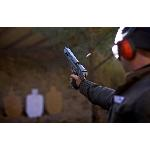Pistol: (63, 43, 87, 91)
